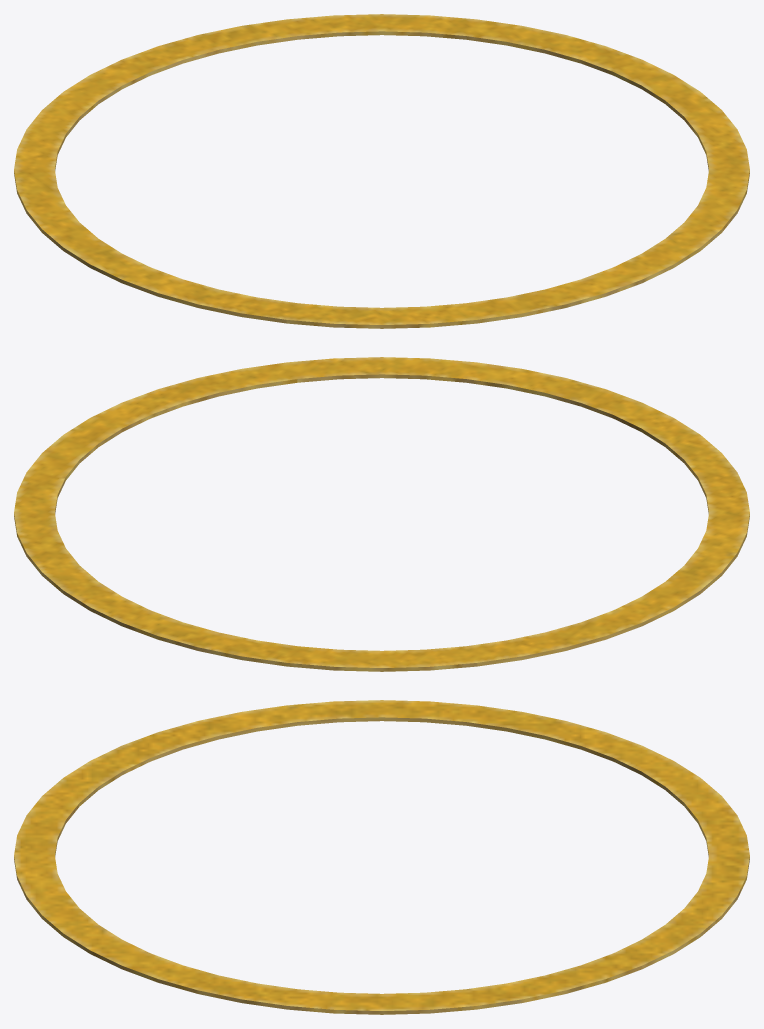
The picture shows the model from 3 angles, top to bottom: view 1: azimuth 30°, elevation 25°; view 2: azimuth 150°, elevation 25°; view 3: azimuth 270°, elevation 25°; orthographic projection.
Parts seen in each view (by area): view 1: Pad; view 2: Pad; view 3: Pad.
Part boxes in pixels (x1,y1,x2,y2): Pad: (14, 14, 749, 328); Pad: (14, 357, 749, 671); Pad: (14, 700, 749, 1014).
Size of the model in its own units: 18 by 0.1 by 18.
1 material, 1 textured.
